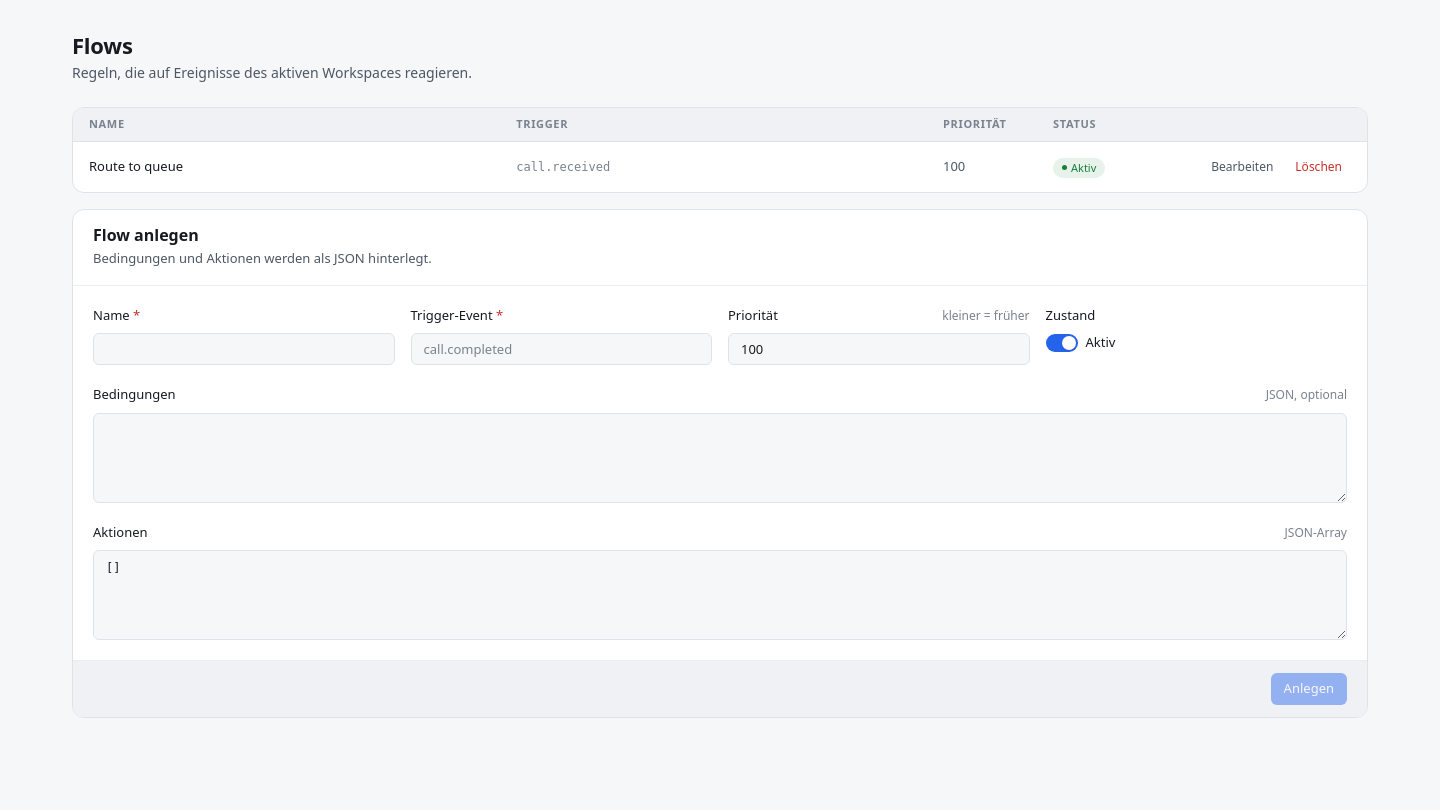
Test case: FlowsListView › aborts save when a before-save hook cancels
This screenshot has width=1440, height=810.
In the field named "flowName": (244, 349) [106,334,382,364], type "New flow"
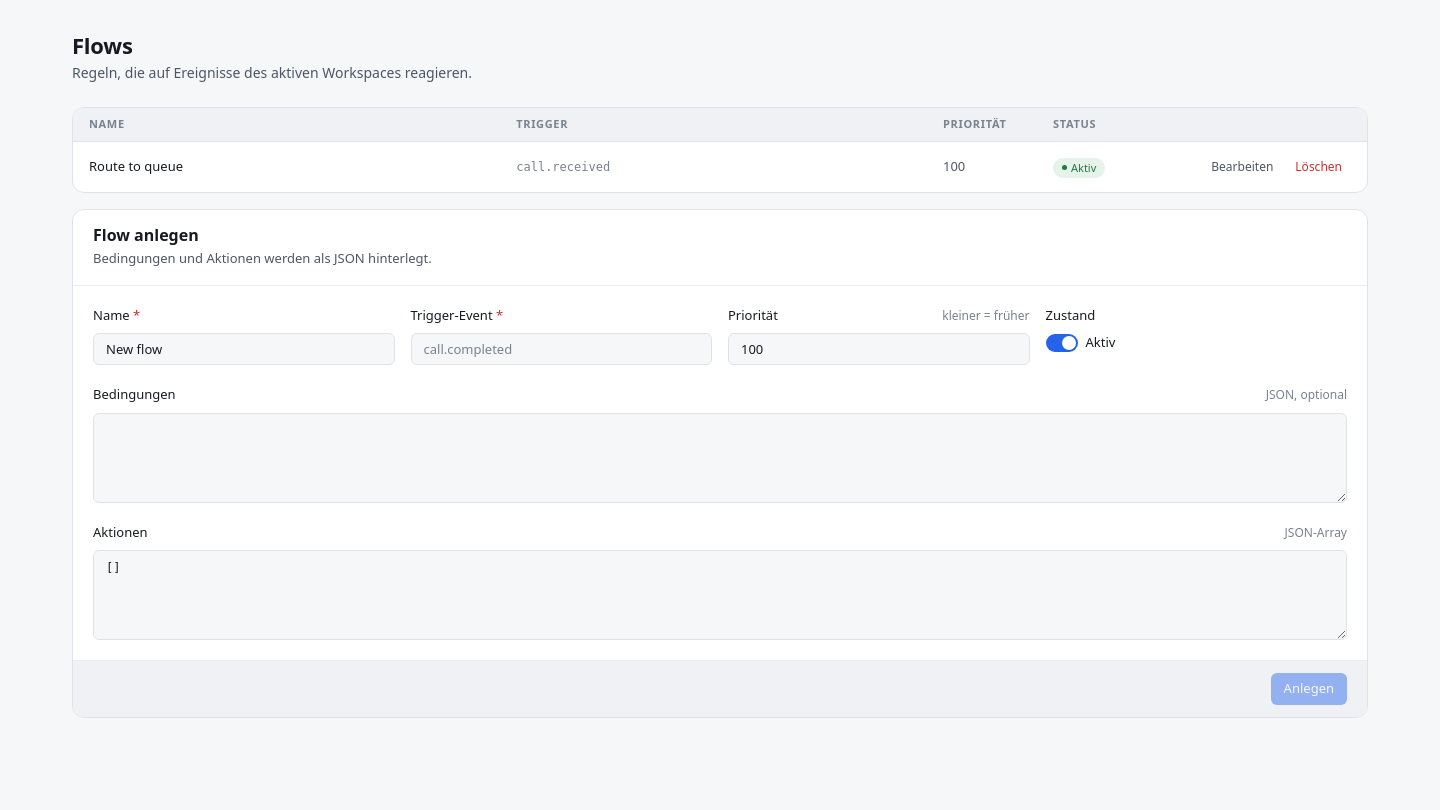
In the field named "flowTrigger": (561, 349) [424,334,699,364], type "call.ended"
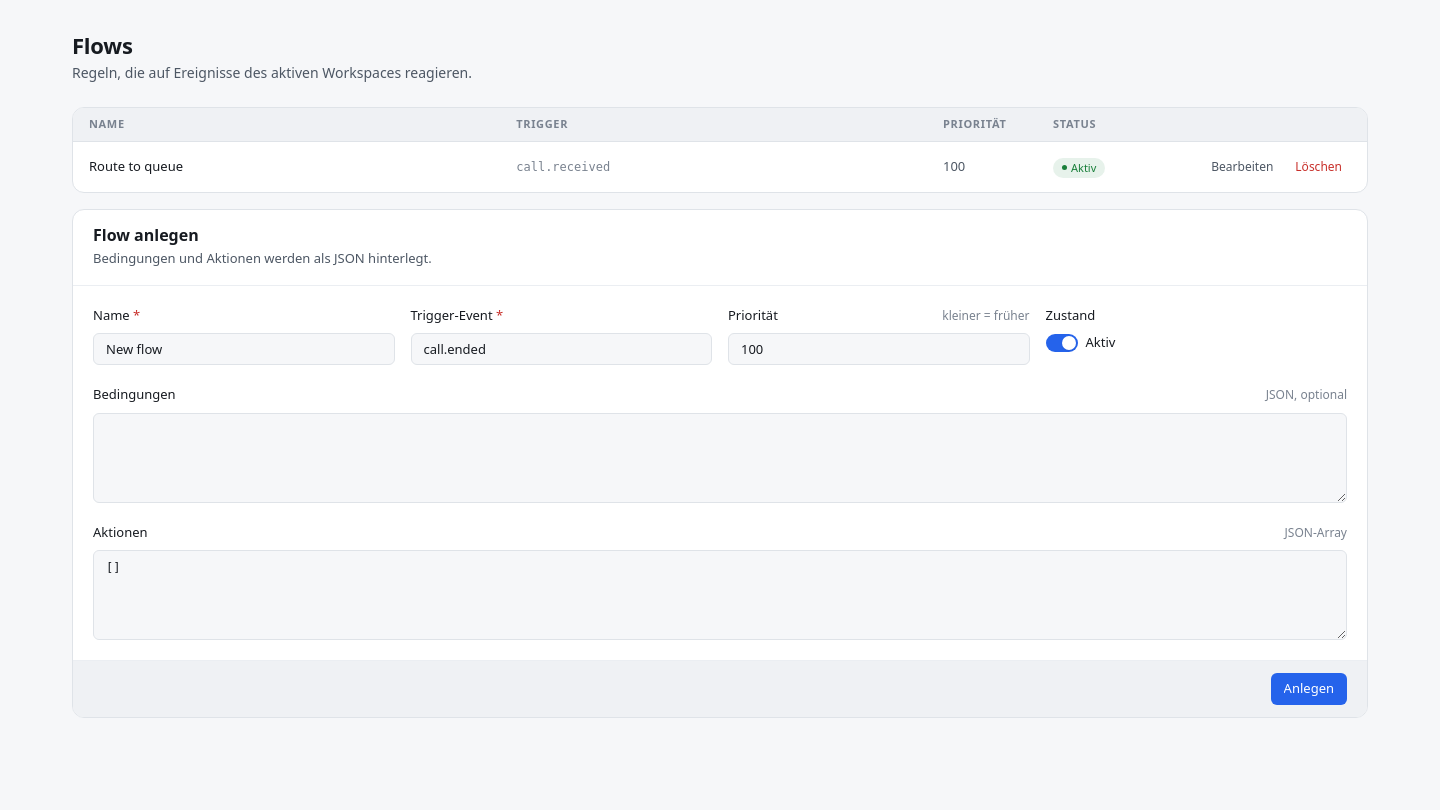
Submit the form with class "flows__form", box [93,306,1347,640]
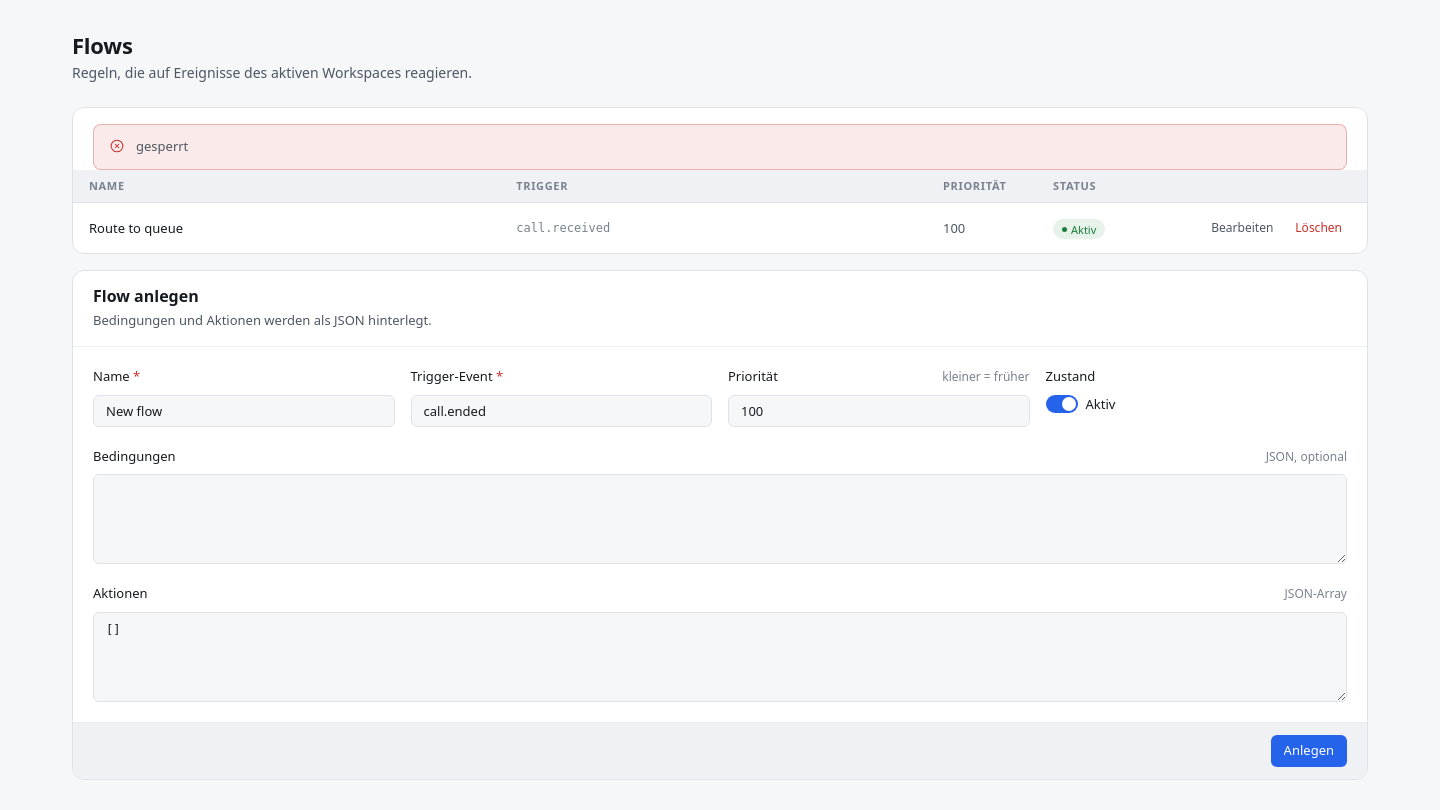
Expected: the text "gesperrt" is shown, [136,137,188,155]
